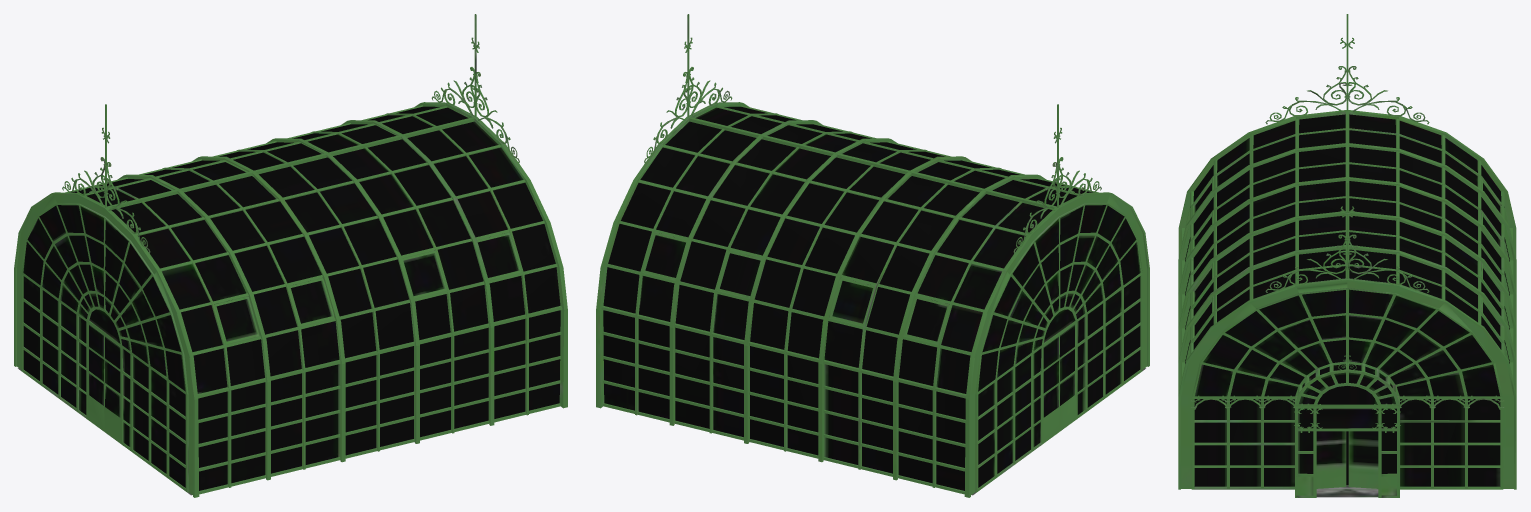
File: greenhouse-lo.glb
3 views of the same model, side by side, from view 1: azimuth 30°, elevation 25°; view 2: azimuth 150°, elevation 25°; view 3: azimuth 270°, elevation 25° (orthographic). The views are drawn at different scales.
Visible parts, largest first — view 1: greenhouse-lo, greenhouse-lo roof; view 2: greenhouse-lo, greenhouse-lo roof; view 3: greenhouse-lo, greenhouse-lo roof.
Boxes of the visible parts, x1,y1,x2,y2 form: greenhouse-lo: [14, 77, 567, 497]; greenhouse-lo roof: [100, 14, 480, 207]; greenhouse-lo: [596, 77, 1149, 497]; greenhouse-lo roof: [683, 14, 1063, 207]; greenhouse-lo: [1178, 77, 1516, 497]; greenhouse-lo roof: [1338, 14, 1356, 278].
Bounding box in the file's own units: 20 × 16 × 16.
Materials: 1 (1 with a texture image).
